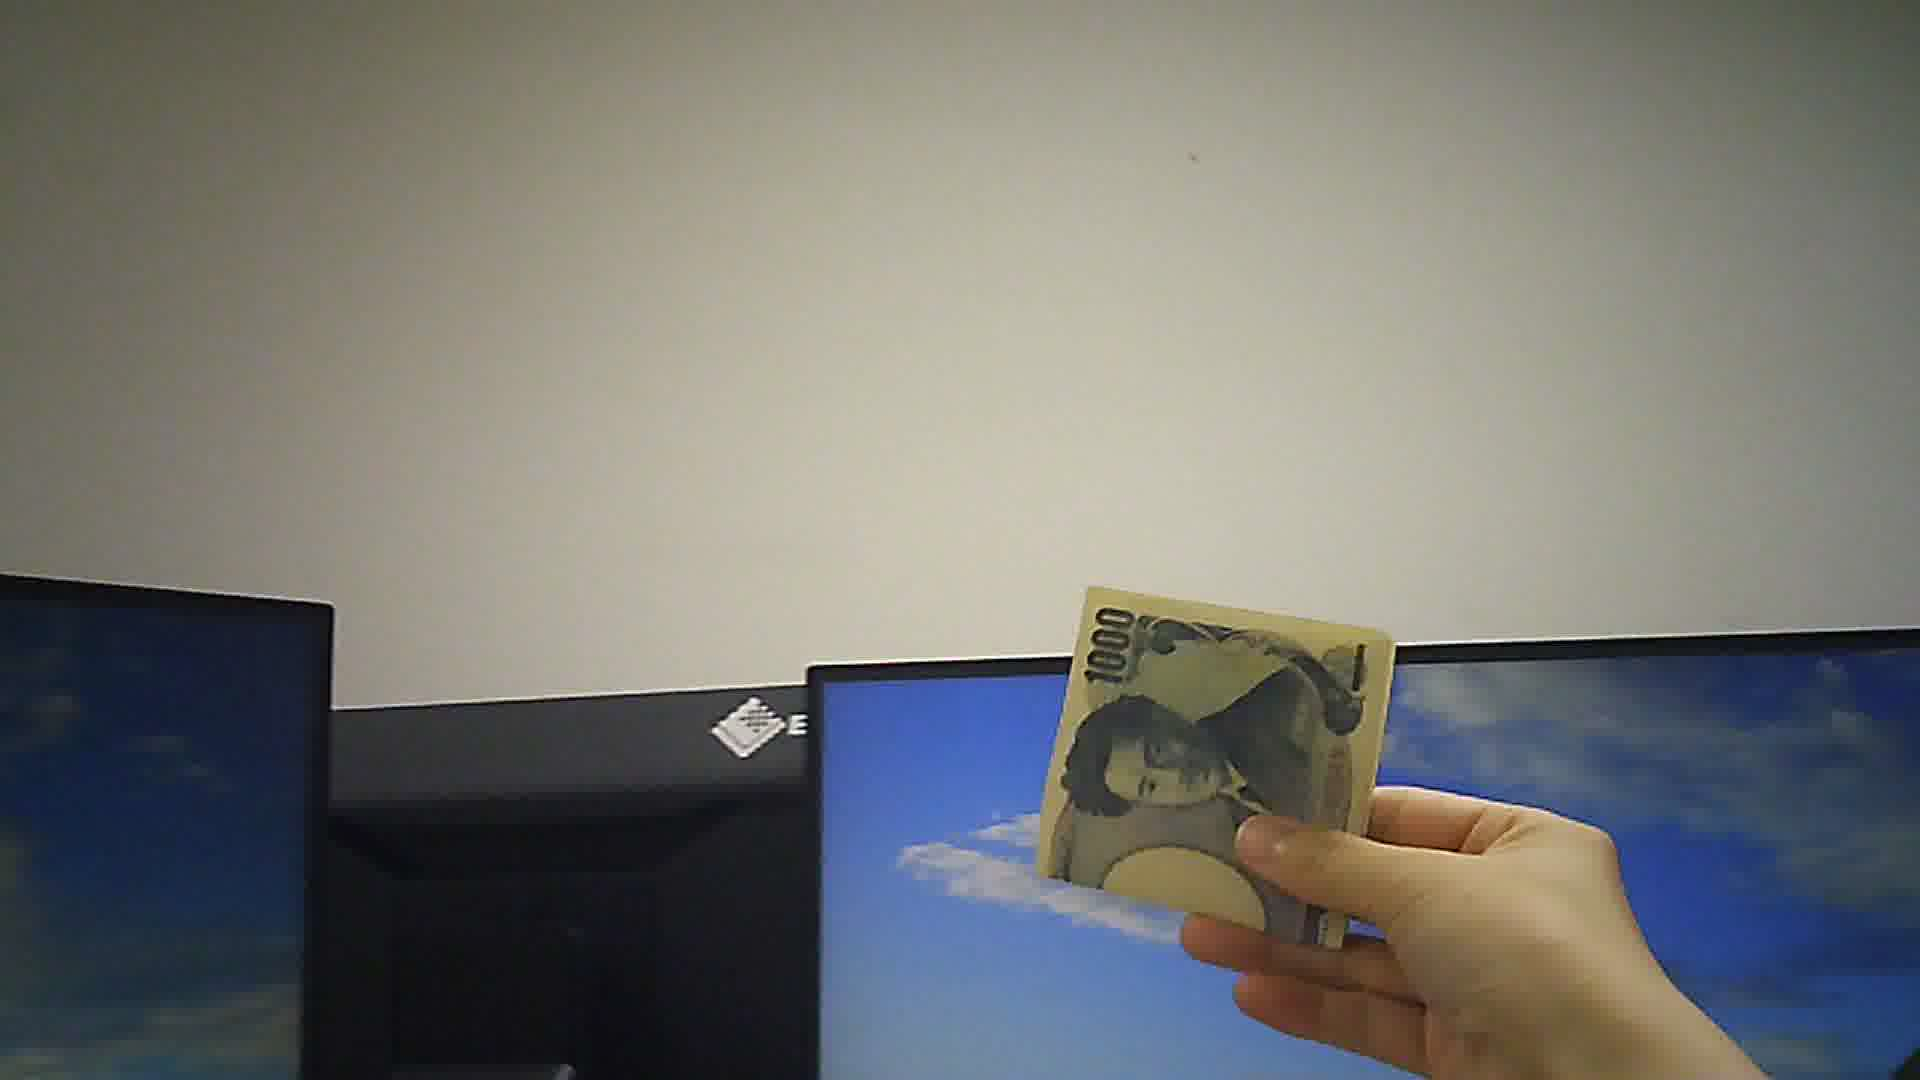1,000 Yen: (1044, 574, 1390, 947)
